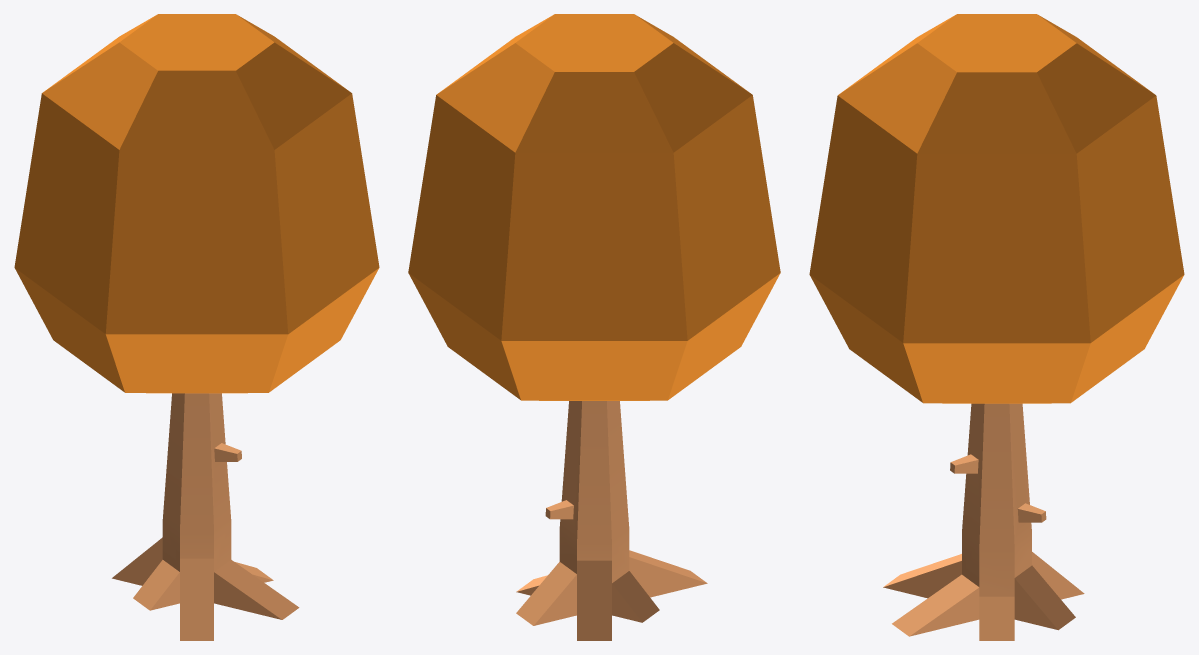
File: tree_oak_fall.obj
3 views of the same model, side by side, from view 1: azimuth 30°, elevation 25°; view 2: azimuth 150°, elevation 25°; view 3: azimuth 270°, elevation 25° (orthographic). The views are drawn at different scales.
Visible parts, largest first — view 1: tree_oak_fall; view 2: tree_oak_fall; view 3: tree_oak_fall.
Part boxes in pixels (<box>): tree_oak_fall: <box>14,14,379,640</box>; tree_oak_fall: <box>408,14,780,640</box>; tree_oak_fall: <box>809,14,1184,640</box>.
Size of the model in its own units: 6.41 by 12.26 by 7.4.
